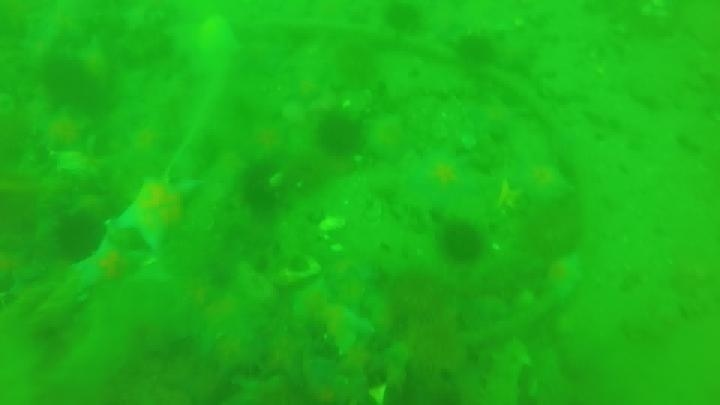echinus: (155, 265, 269, 368), (385, 269, 451, 327), (522, 200, 585, 260), (40, 57, 101, 111), (237, 160, 287, 217), (52, 212, 106, 263), (315, 112, 365, 158), (438, 221, 485, 265), (381, 3, 425, 37), (454, 33, 497, 67)
holothurian: (480, 337, 533, 405)
starfish: (112, 175, 203, 252), (72, 232, 144, 294), (407, 150, 480, 206), (311, 300, 375, 356), (510, 159, 573, 207), (361, 115, 416, 165), (35, 109, 93, 156), (542, 253, 586, 303), (468, 99, 519, 138), (284, 73, 328, 107), (492, 179, 527, 218)
